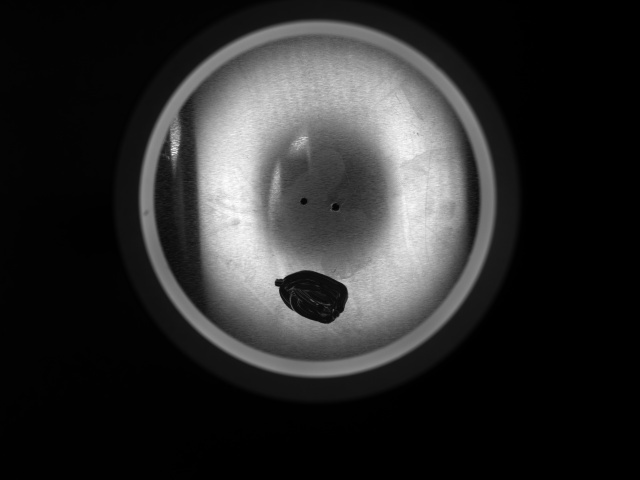zang_wu: (270, 266, 350, 325)
zhen_kong: (297, 193, 310, 208), (329, 201, 341, 213)
